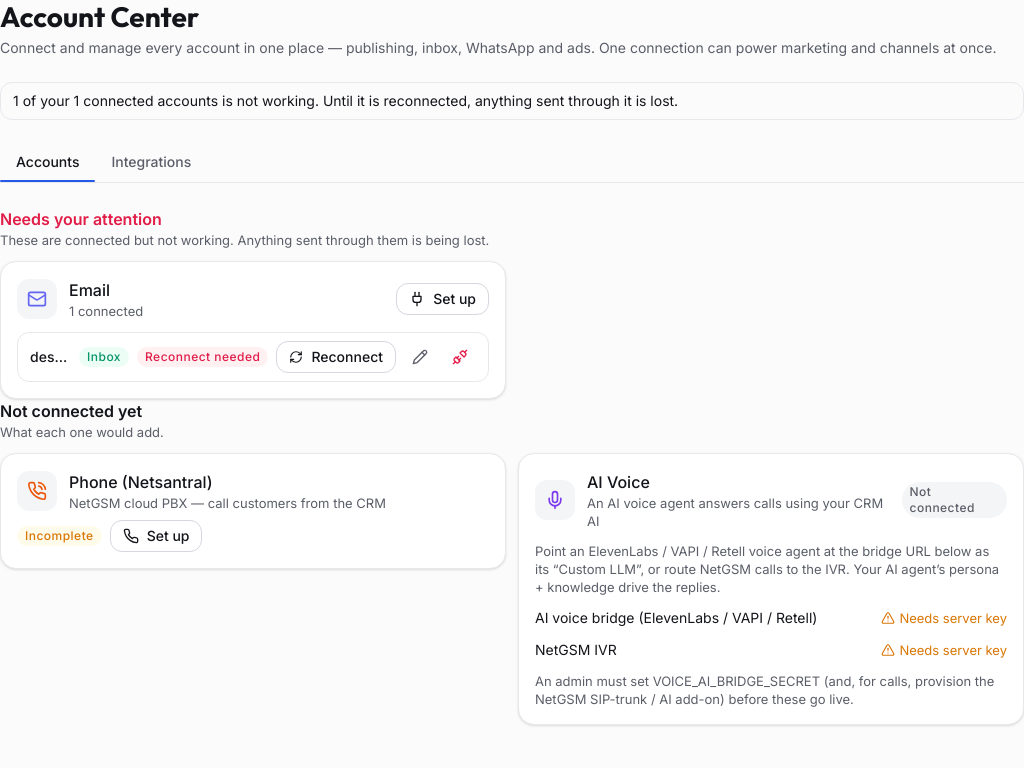
Scenario: AccountCenterPage — the email mailbox › offers Reconnect on the EMAIL branch when the consent has died
Click the button "Reconnect": x=336, y=357 [276,341,396,373]
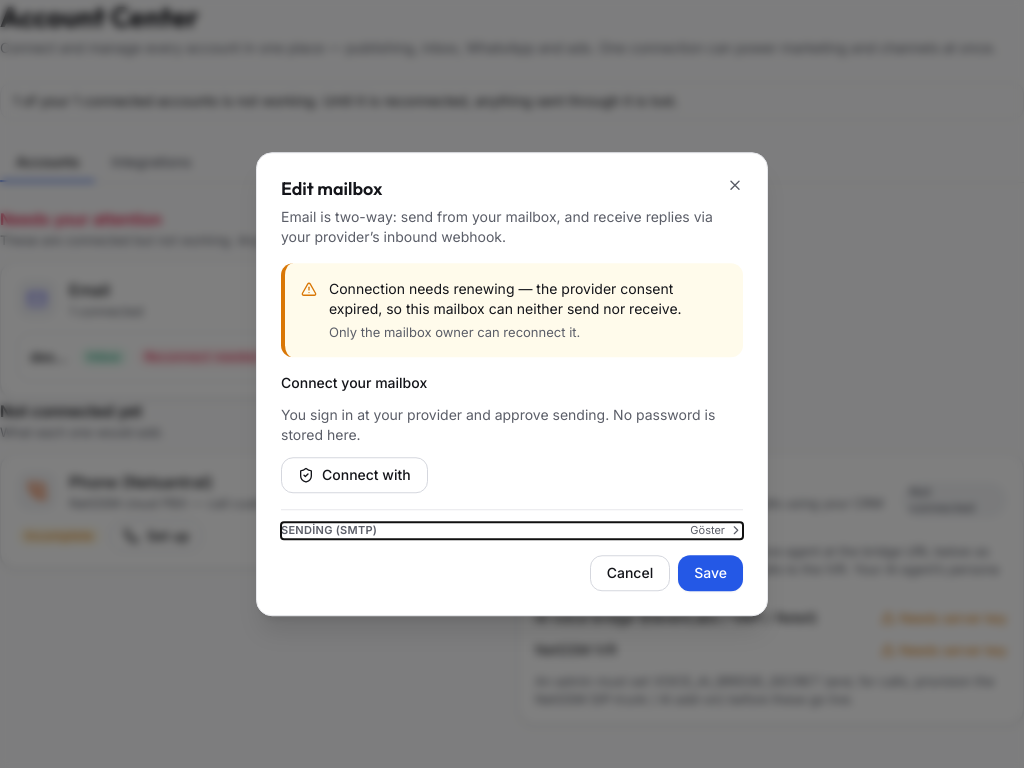
Check: the text "Connection needs renewing — the provider consent expired" is shown, box [329,280,682,317]
